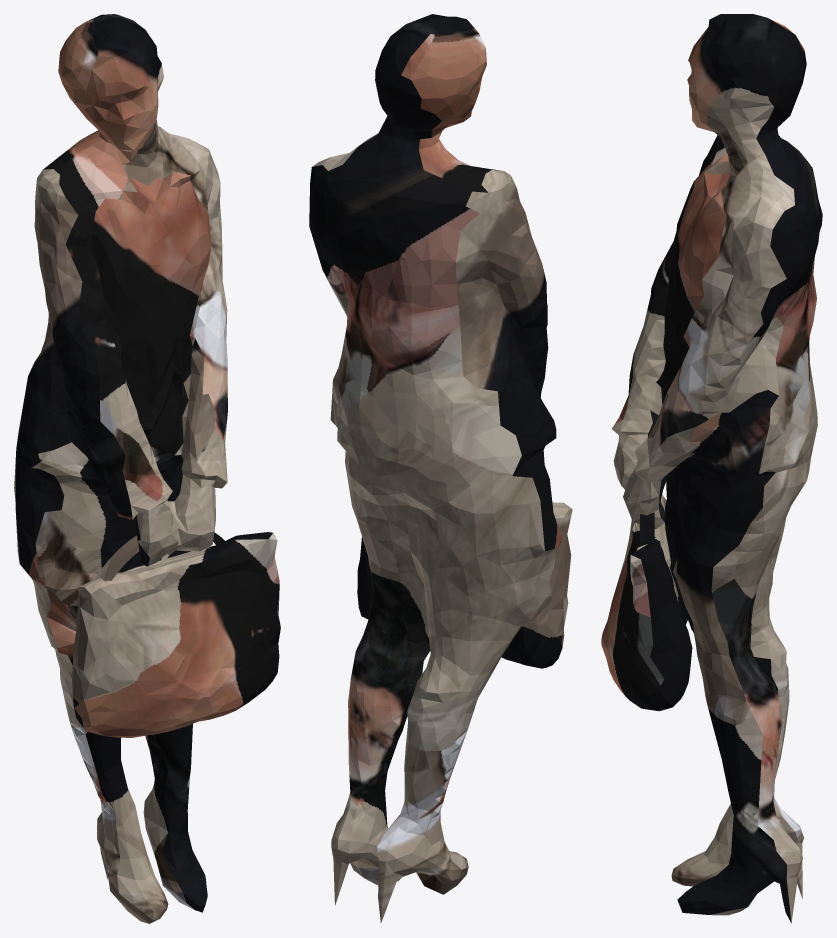
The picture shows the model from 3 angles, left to right: view 1: azimuth 30°, elevation 25°; view 2: azimuth 150°, elevation 25°; view 3: azimuth 270°, elevation 25°; orthographic projection. The views are drawn at different scales.
Visible parts, largest first — view 1: h_1; view 2: h_1; view 3: h_1.
Boxes of the visible parts, left/top/right/bottom form: h_1: left=14, top=14, right=280, bottom=923; h_1: left=309, top=14, right=572, bottom=922; h_1: left=601, top=14, right=822, bottom=923.
Bounding box in the file's own units: 0.4376 × 1.66 × 0.3832.
1 material, 1 textured.
